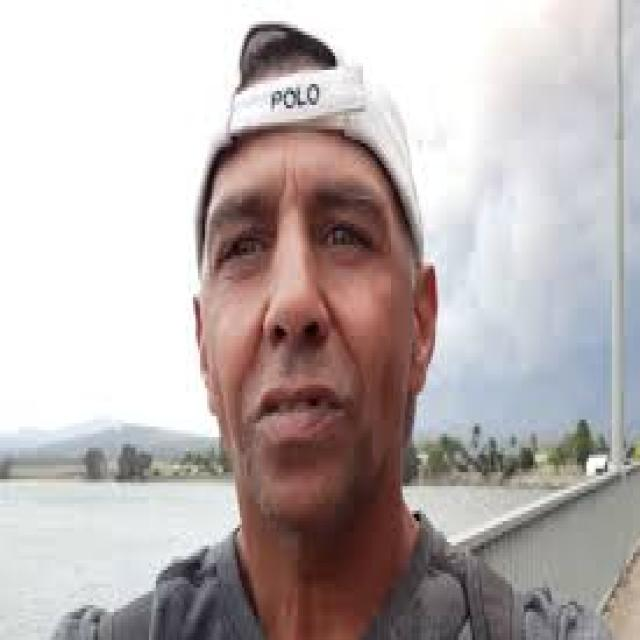cap: (184, 14, 437, 539)
